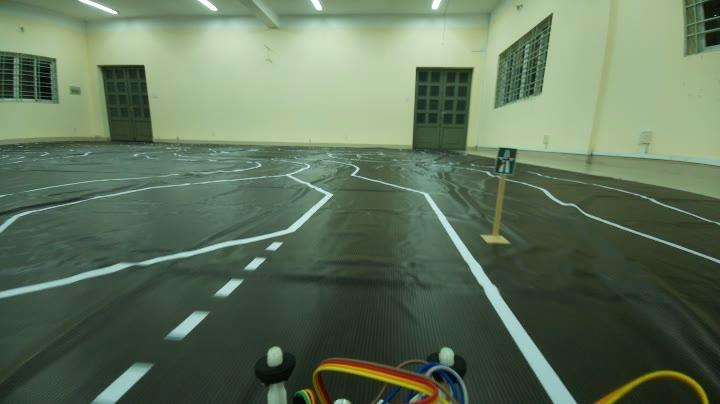highway_exit: (492, 140, 518, 177)
